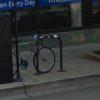Bicycle: (11, 33, 59, 77)
